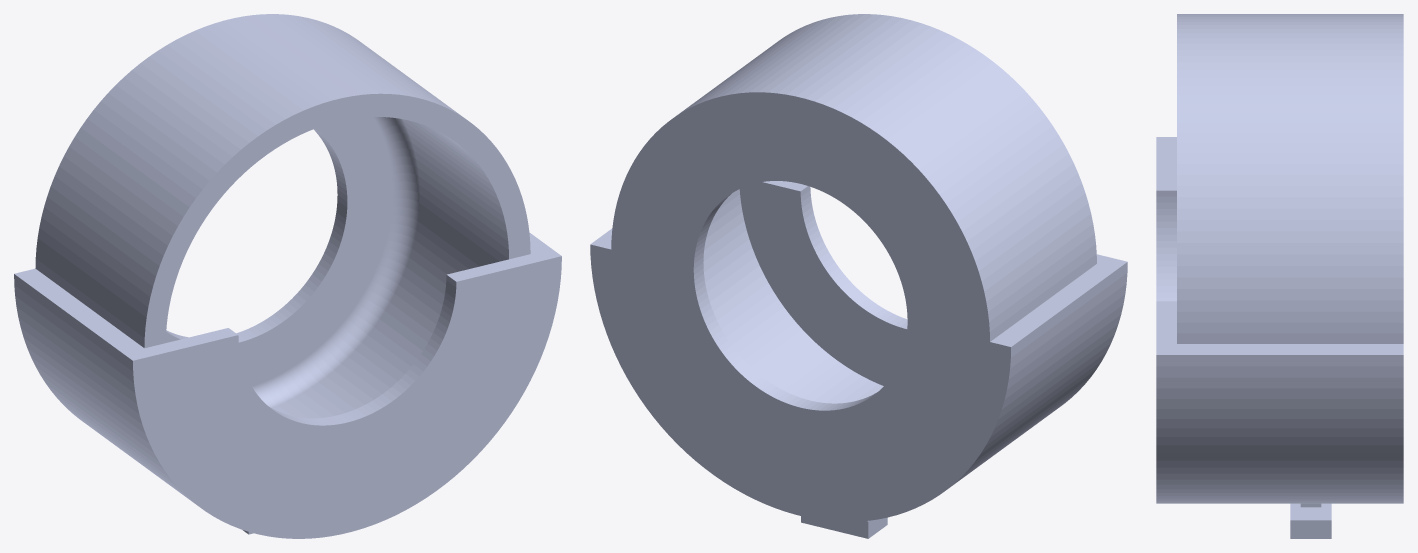
The model's file is capsula2.obj.
The picture shows the model from 3 angles, left to right: view 1: azimuth 30°, elevation 25°; view 2: azimuth 150°, elevation 25°; view 3: azimuth 270°, elevation 25°; orthographic projection. The views are drawn at different scales.
Visible parts, largest first — view 1: obj1; view 2: obj1; view 3: obj1.
Part boxes in pixels (x1,y1,x2,y2): obj1: (14, 14, 561, 538); obj1: (590, 14, 1127, 538); obj1: (1156, 14, 1403, 538).
Bounding box in the file's own units: 50 × 51.99 × 24.
